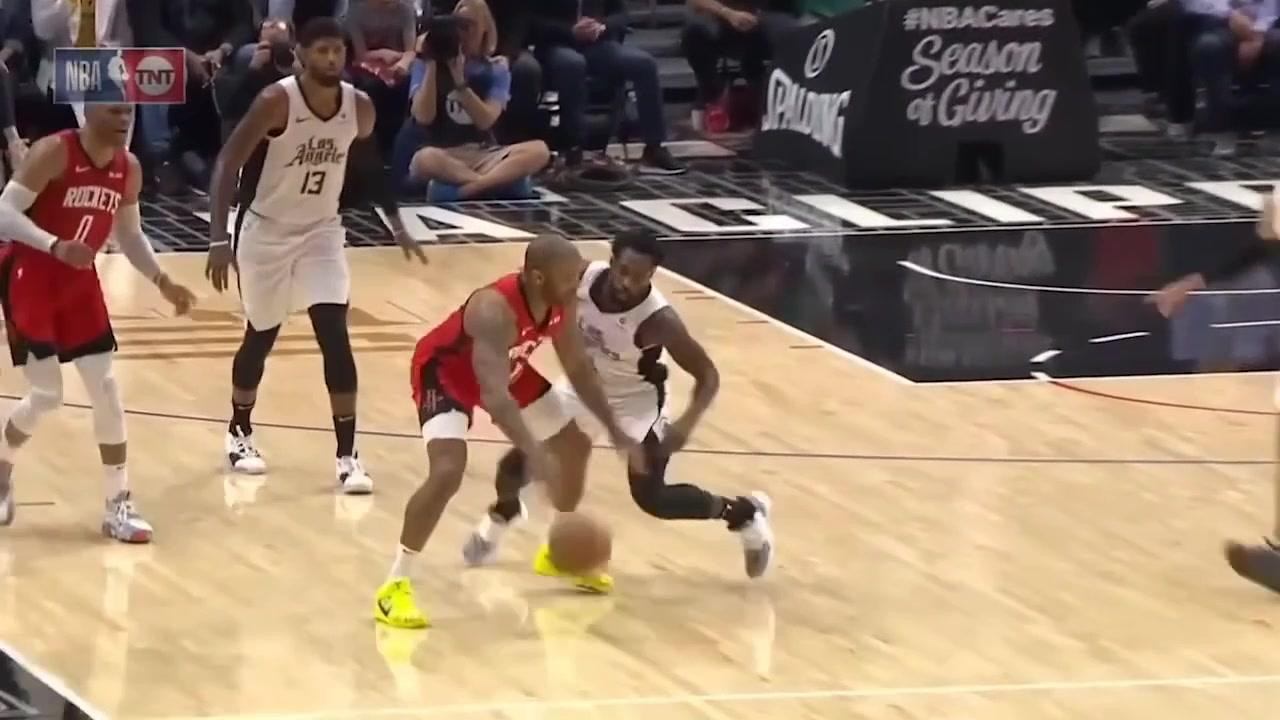no_foul: (375, 226, 788, 638)
